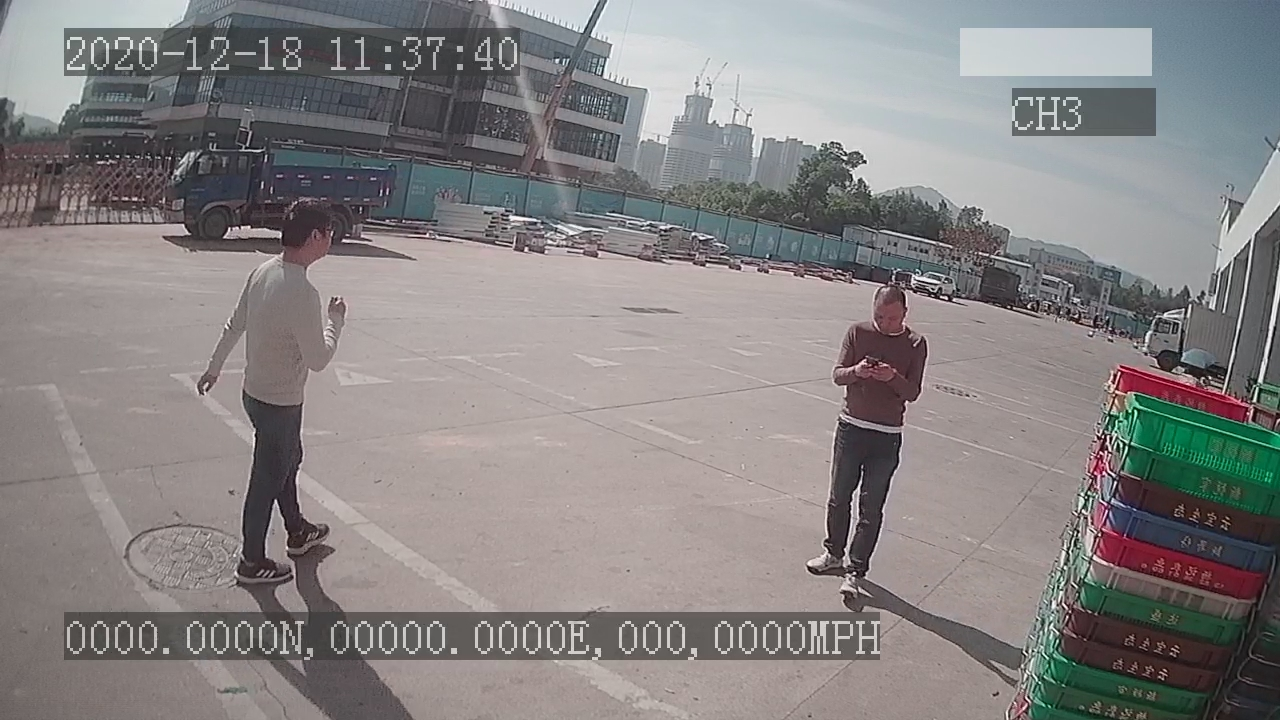person: (804, 284, 930, 597)
